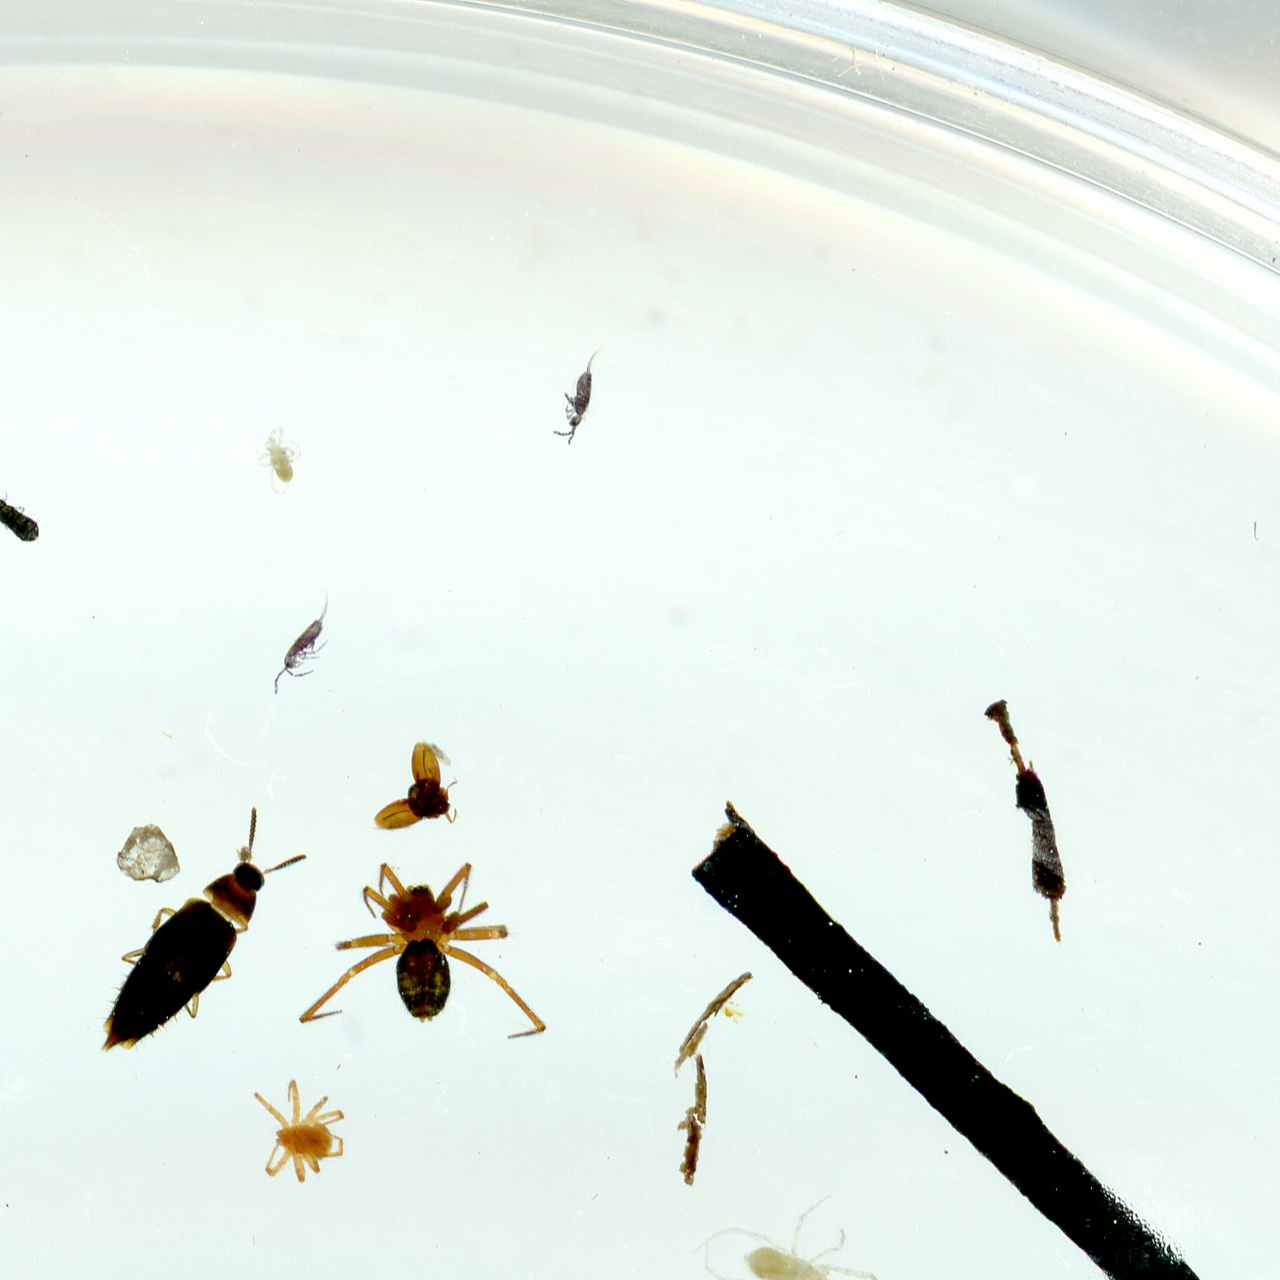arthropod: (91, 802, 311, 1058), (295, 858, 551, 1042), (688, 1189, 884, 1280), (250, 1077, 346, 1182), (370, 739, 459, 833), (271, 589, 332, 696), (0, 456, 56, 562), (551, 345, 603, 446), (255, 422, 304, 495)
